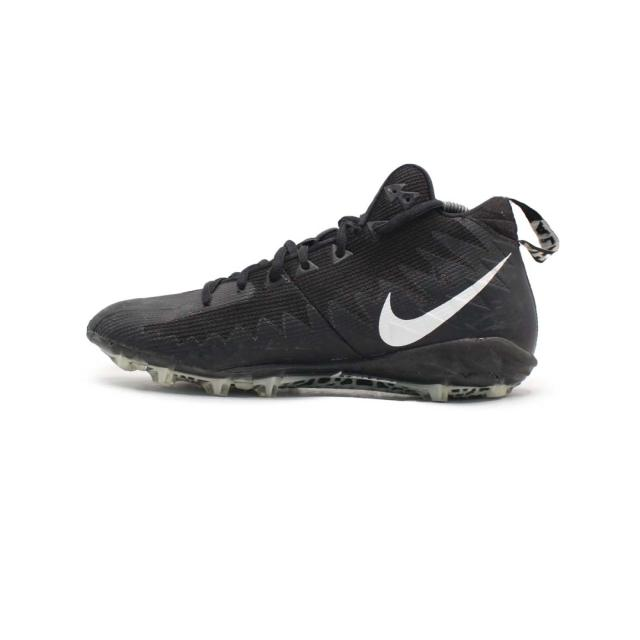heel: (485, 193, 556, 349)
midsole: (87, 328, 535, 405)
uppersole: (89, 168, 501, 369)
